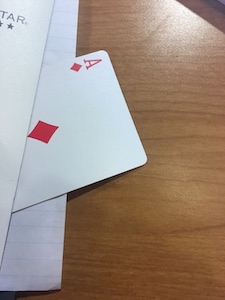AceOfDiamonds: (12, 47, 149, 212)
